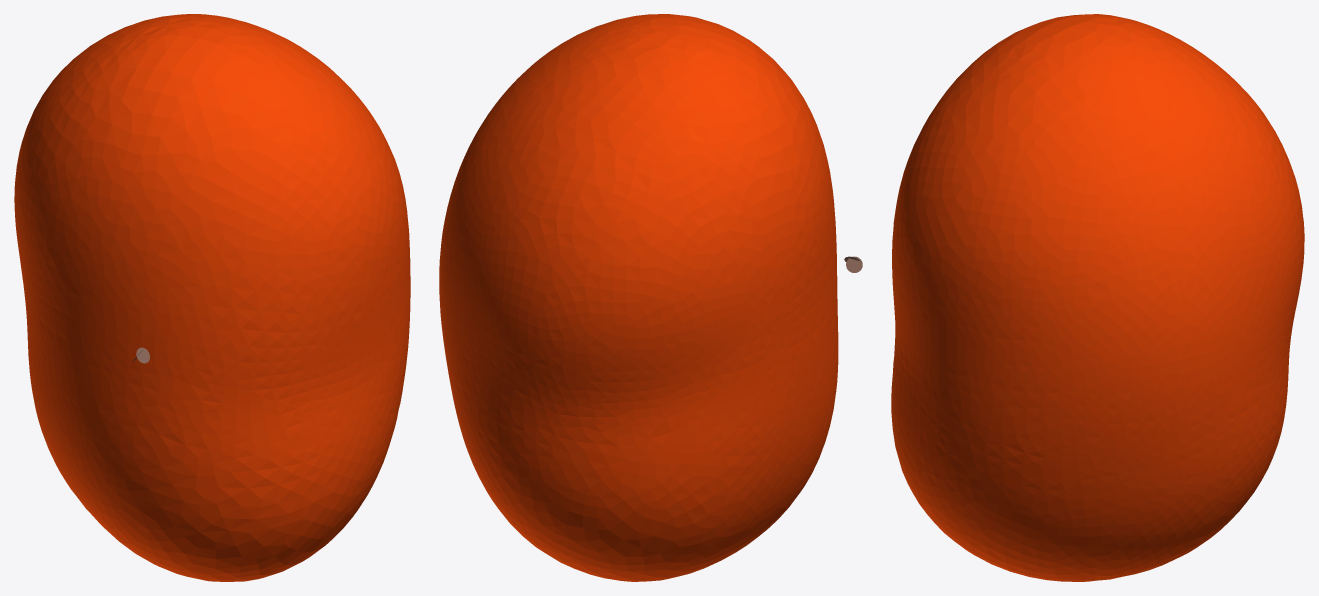
The model's file is mustache.fbx.
The picture shows the model from 3 angles, left to right: view 1: azimuth 30°, elevation 25°; view 2: azimuth 150°, elevation 25°; view 3: azimuth 270°, elevation 25°; orthographic projection.
Parts seen in each view (by area): view 1: _null_; view 2: _null_; view 3: _null_.
Part boxes in pixels (bbox=[...]): _null_: bbox=[14, 14, 410, 581]; _null_: bbox=[439, 14, 838, 581]; _null_: bbox=[891, 14, 1304, 581].
Bounding box in the file's own units: 11.21 × 16.93 × 11.97.
